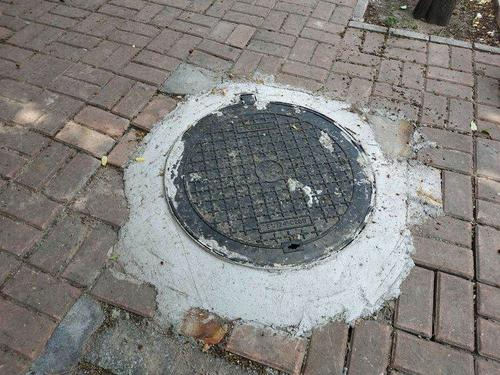good: (129, 79, 413, 323)
